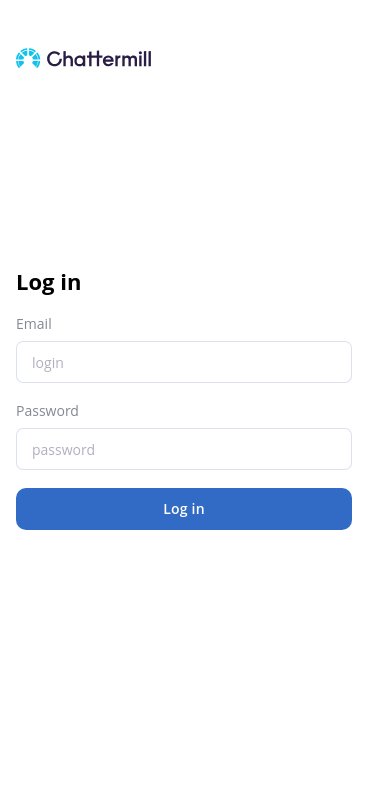
Test case: LoginScreen › Failed Login
Click the button with test id "login-screen-loginbtn" at (184, 509), box [16,488,352,530]
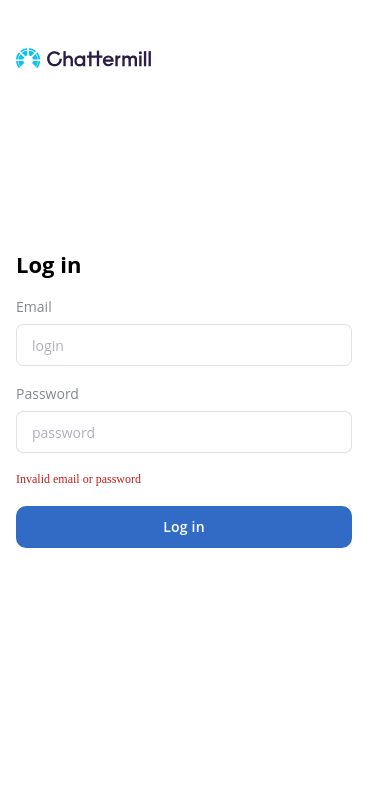
Check: the text with test id "login-screen-error" reads "Invalid email or password", box [16,472,141,486]
